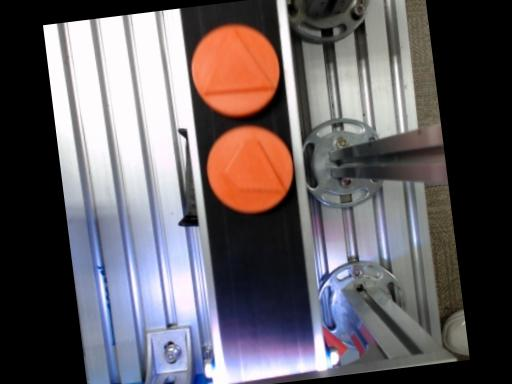Orange_Waper: (190, 23, 278, 117), (205, 125, 292, 213)
